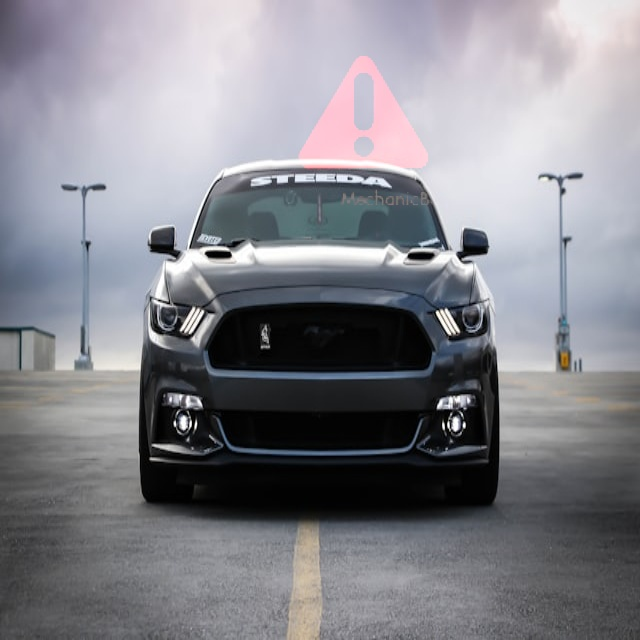symbol: (260, 10, 466, 216)
